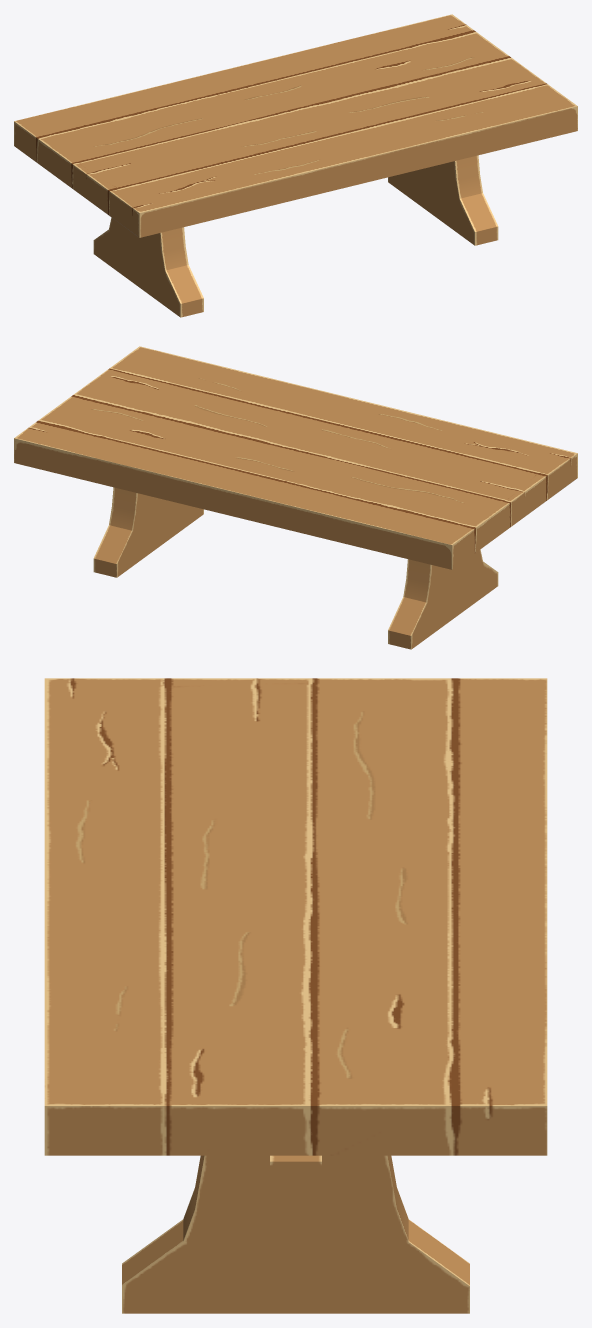
Rendered from Table.fbx.
3 views of the same model, one above another, from view 1: azimuth 30°, elevation 25°; view 2: azimuth 150°, elevation 25°; view 3: azimuth 270°, elevation 25° (orthographic). The views are drawn at different scales.
Parts seen in each view (by area): view 1: DungeonAssets:polySurface6; view 2: DungeonAssets:polySurface6; view 3: DungeonAssets:polySurface6.
Boxes of the visible parts, box(x1,y1,x2,y2) form: DungeonAssets:polySurface6: box(14, 14, 577, 317); DungeonAssets:polySurface6: box(14, 346, 577, 649); DungeonAssets:polySurface6: box(44, 678, 547, 1313).
Size of the model in its own units: 304 by 88.35 by 151.
